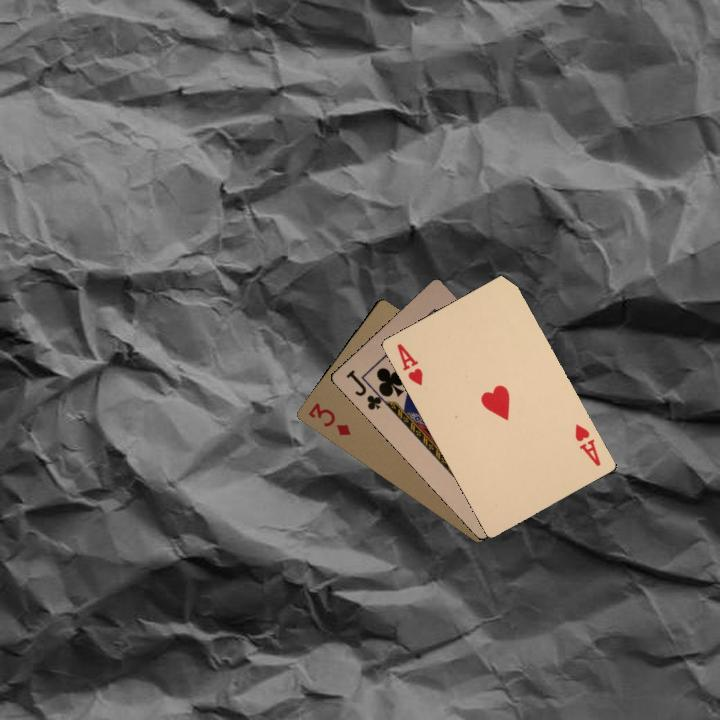3d: (304, 398, 354, 438)
Ah: (393, 339, 426, 388), (571, 420, 603, 469)
Jc: (342, 366, 390, 413)
